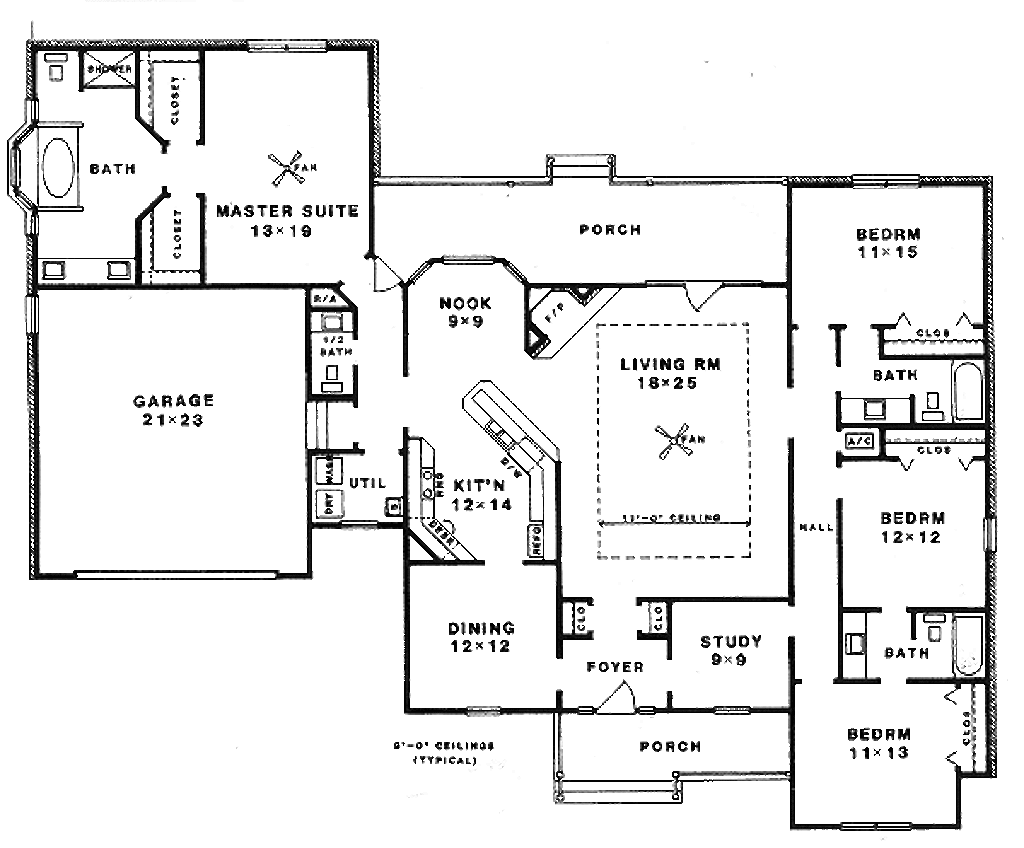door: (364, 254, 408, 301), (591, 683, 641, 716), (678, 280, 725, 313)
large_sink: (919, 610, 950, 647), (916, 387, 945, 425), (42, 52, 71, 89), (316, 360, 345, 394)
small_sink: (34, 255, 137, 284), (838, 395, 913, 430), (841, 610, 871, 678), (311, 309, 351, 333)
tub: (39, 118, 85, 210), (949, 613, 986, 676), (951, 358, 986, 423)
window: (838, 818, 920, 838), (242, 38, 328, 56), (853, 172, 922, 190), (23, 290, 45, 337), (440, 251, 499, 268), (464, 704, 505, 721), (708, 705, 759, 717), (984, 510, 997, 557)
